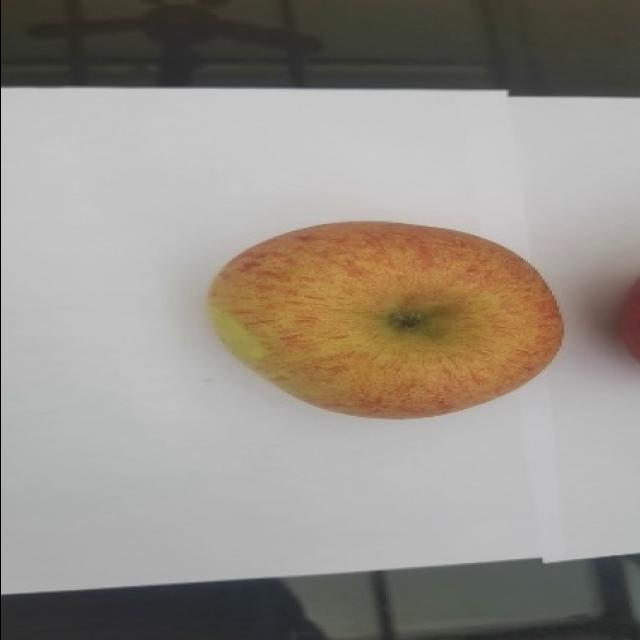Apple: (201, 209, 571, 430)
